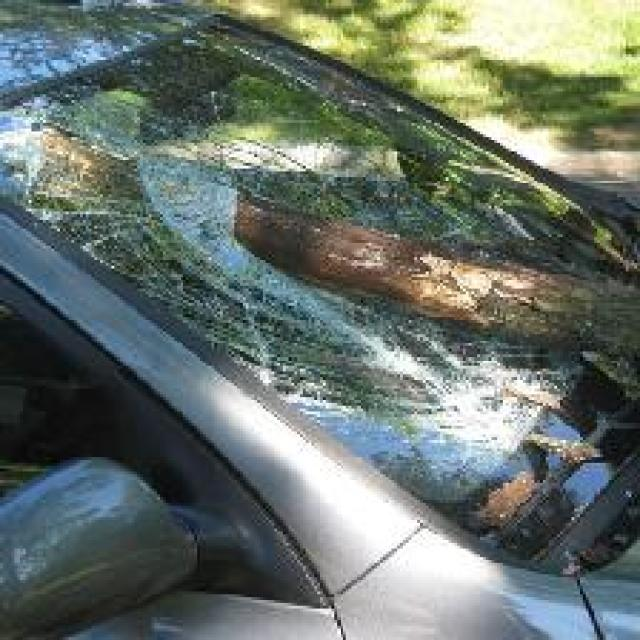glass_shatter_moderate: (63, 91, 591, 486), (140, 34, 283, 103)
